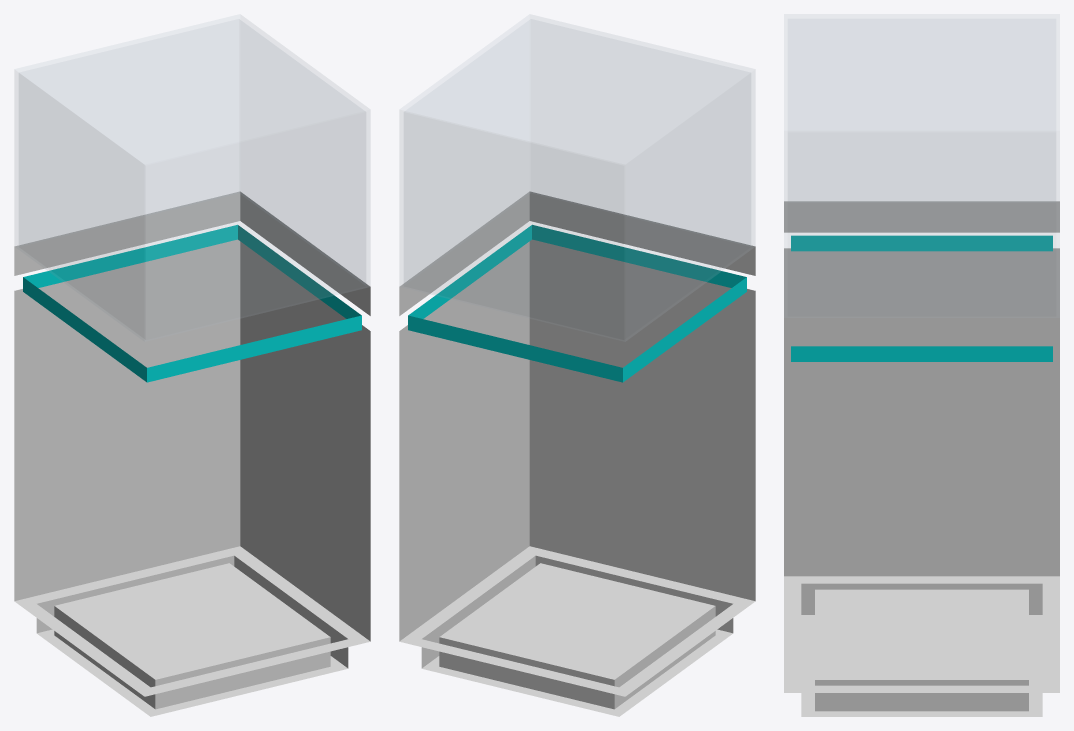
The model's file is standee-acrylic-box.glb.
3 renders of one model, left to right at view 1: azimuth 30°, elevation 25°; view 2: azimuth 150°, elevation 25°; view 3: azimuth 270°, elevation 25°, orthographic. The views are drawn at different scales.
Parts seen in each view (by area): view 1: 3DGeom-2, 3DGeom-1, 3DGeom-3; view 2: 3DGeom-2, 3DGeom-1, 3DGeom-3; view 3: 3DGeom-2, 3DGeom-1, 3DGeom-3.
Boxes of the visible parts, x1,y1,x2,y2 form: 3DGeom-2: (14,191,370,716); 3DGeom-1: (15,15,369,341); 3DGeom-3: (23,224,361,382); 3DGeom-2: (399,191,755,716); 3DGeom-1: (400,15,754,341); 3DGeom-3: (408,224,746,382); 3DGeom-2: (784,201,1059,716); 3DGeom-1: (784,14,1059,317); 3DGeom-3: (791,235,1052,361).
Bounding box in the file's own units: 0.4 × 0.95 × 0.4.
